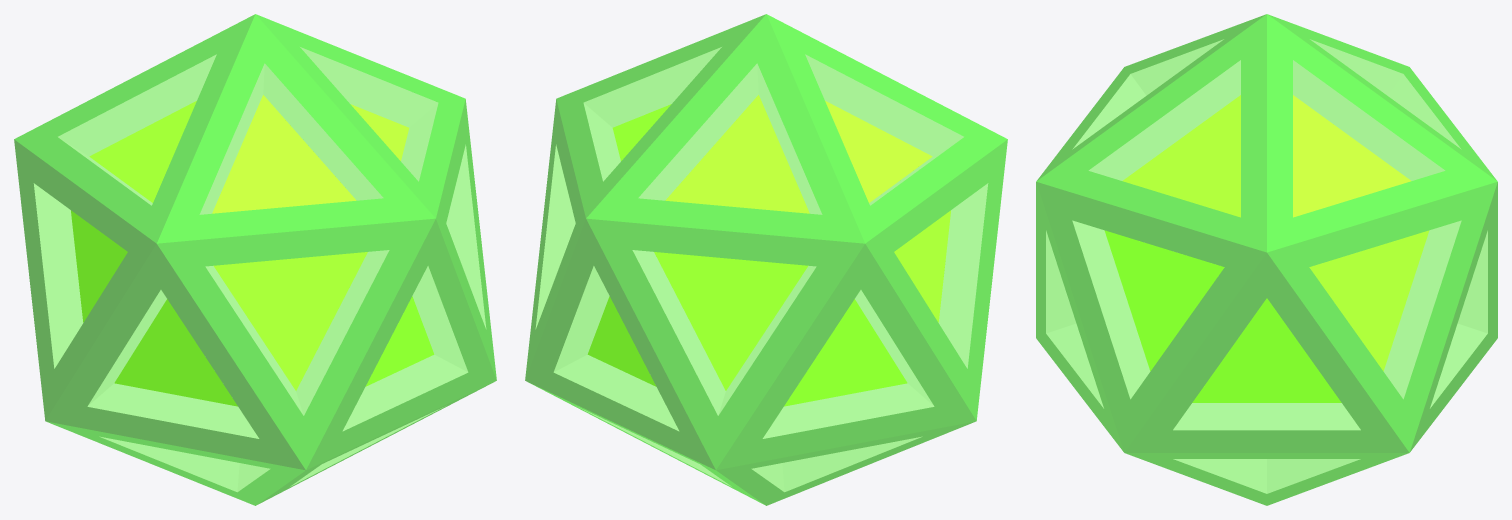
File: core_drop.glb
The picture shows the model from 3 angles, left to right: view 1: azimuth 30°, elevation 25°; view 2: azimuth 150°, elevation 25°; view 3: azimuth 270°, elevation 25°; orthographic projection.
Visible parts, largest first — view 1: Icosphere; view 2: Icosphere; view 3: Icosphere.
Part boxes in pixels (left/top/right/bottom): Icosphere: left=14, top=14, right=496, bottom=505; Icosphere: left=525, top=14, right=1007, bottom=505; Icosphere: left=1036, top=14, right=1497, bottom=505.
Bounding box in the file's own units: 0.4472 × 0.5 × 0.4253.
